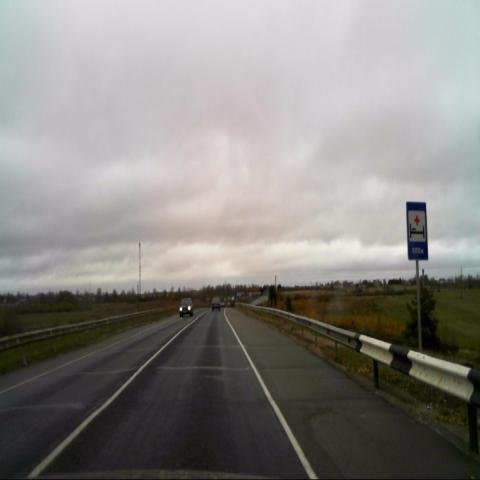7_2: (406, 200, 428, 260)
